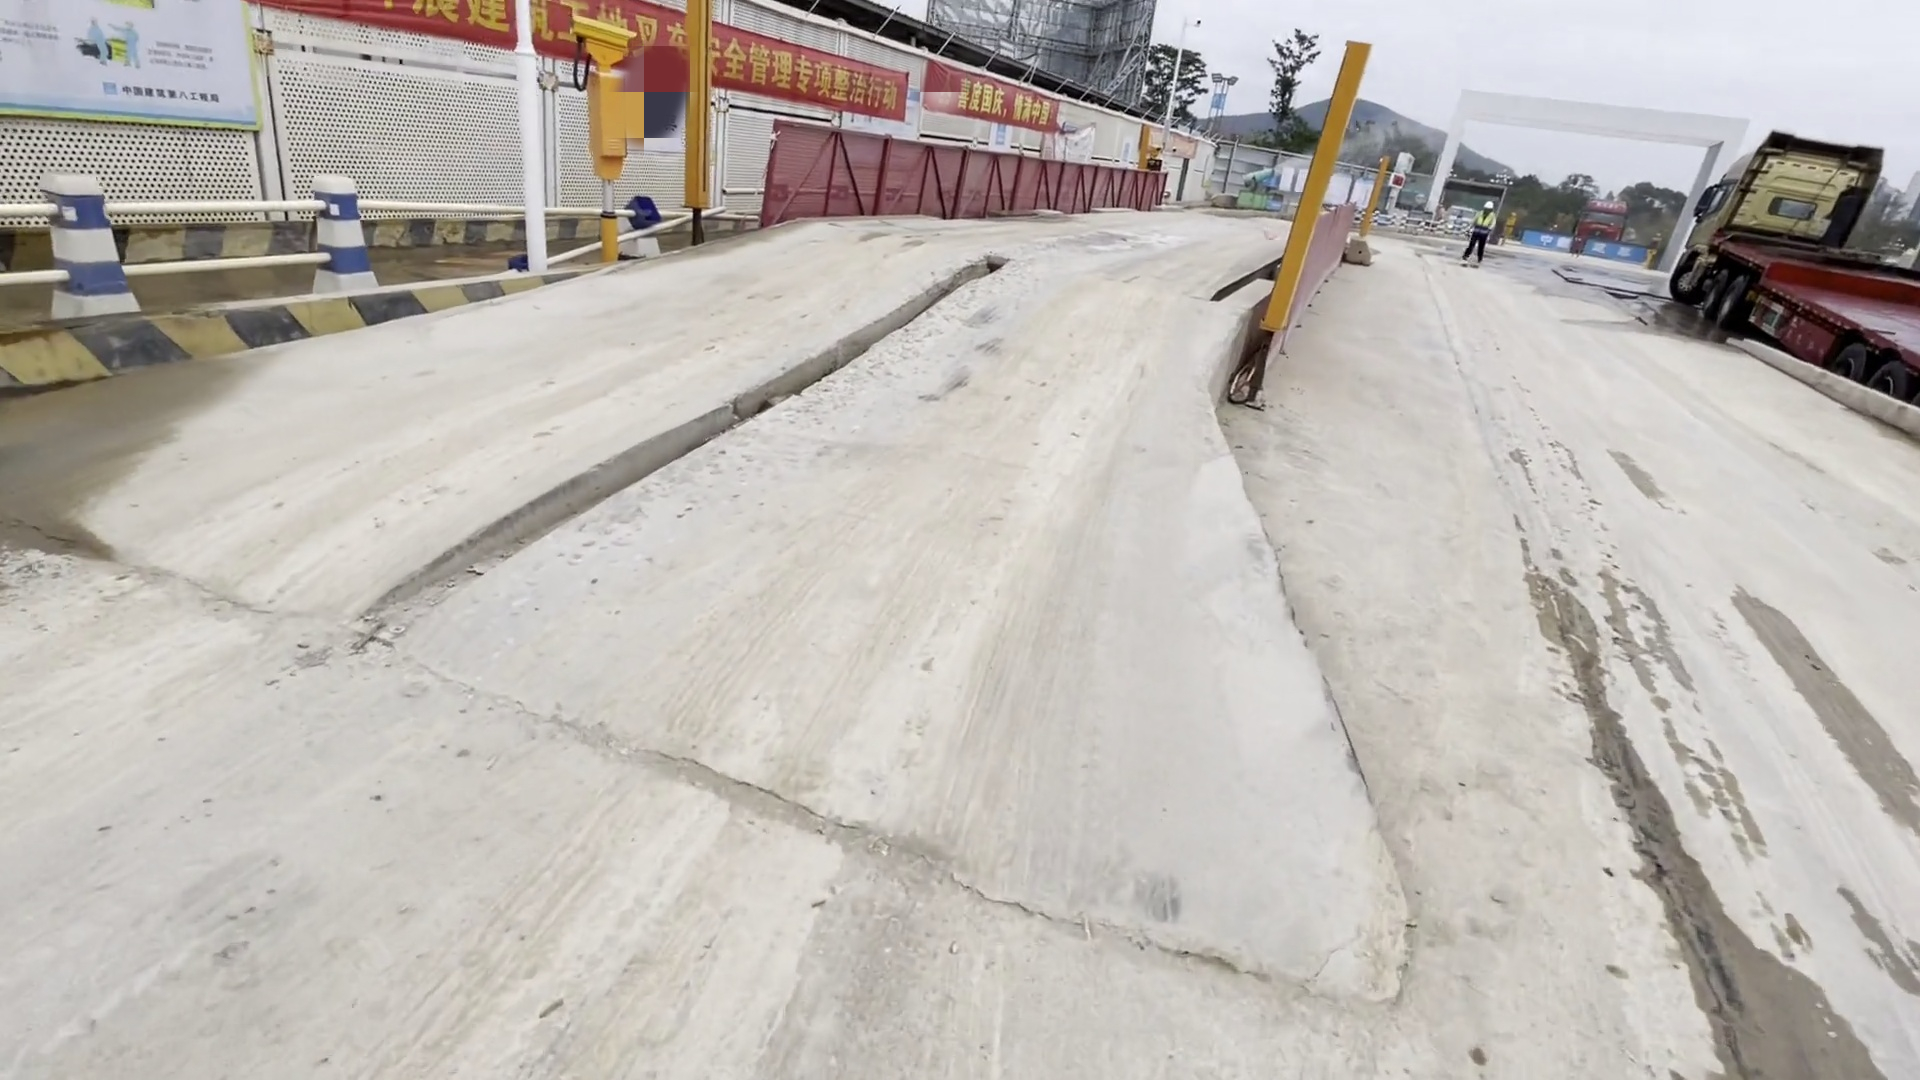fence: (765, 117, 1171, 229)
slogan: (315, 5, 1091, 142)
